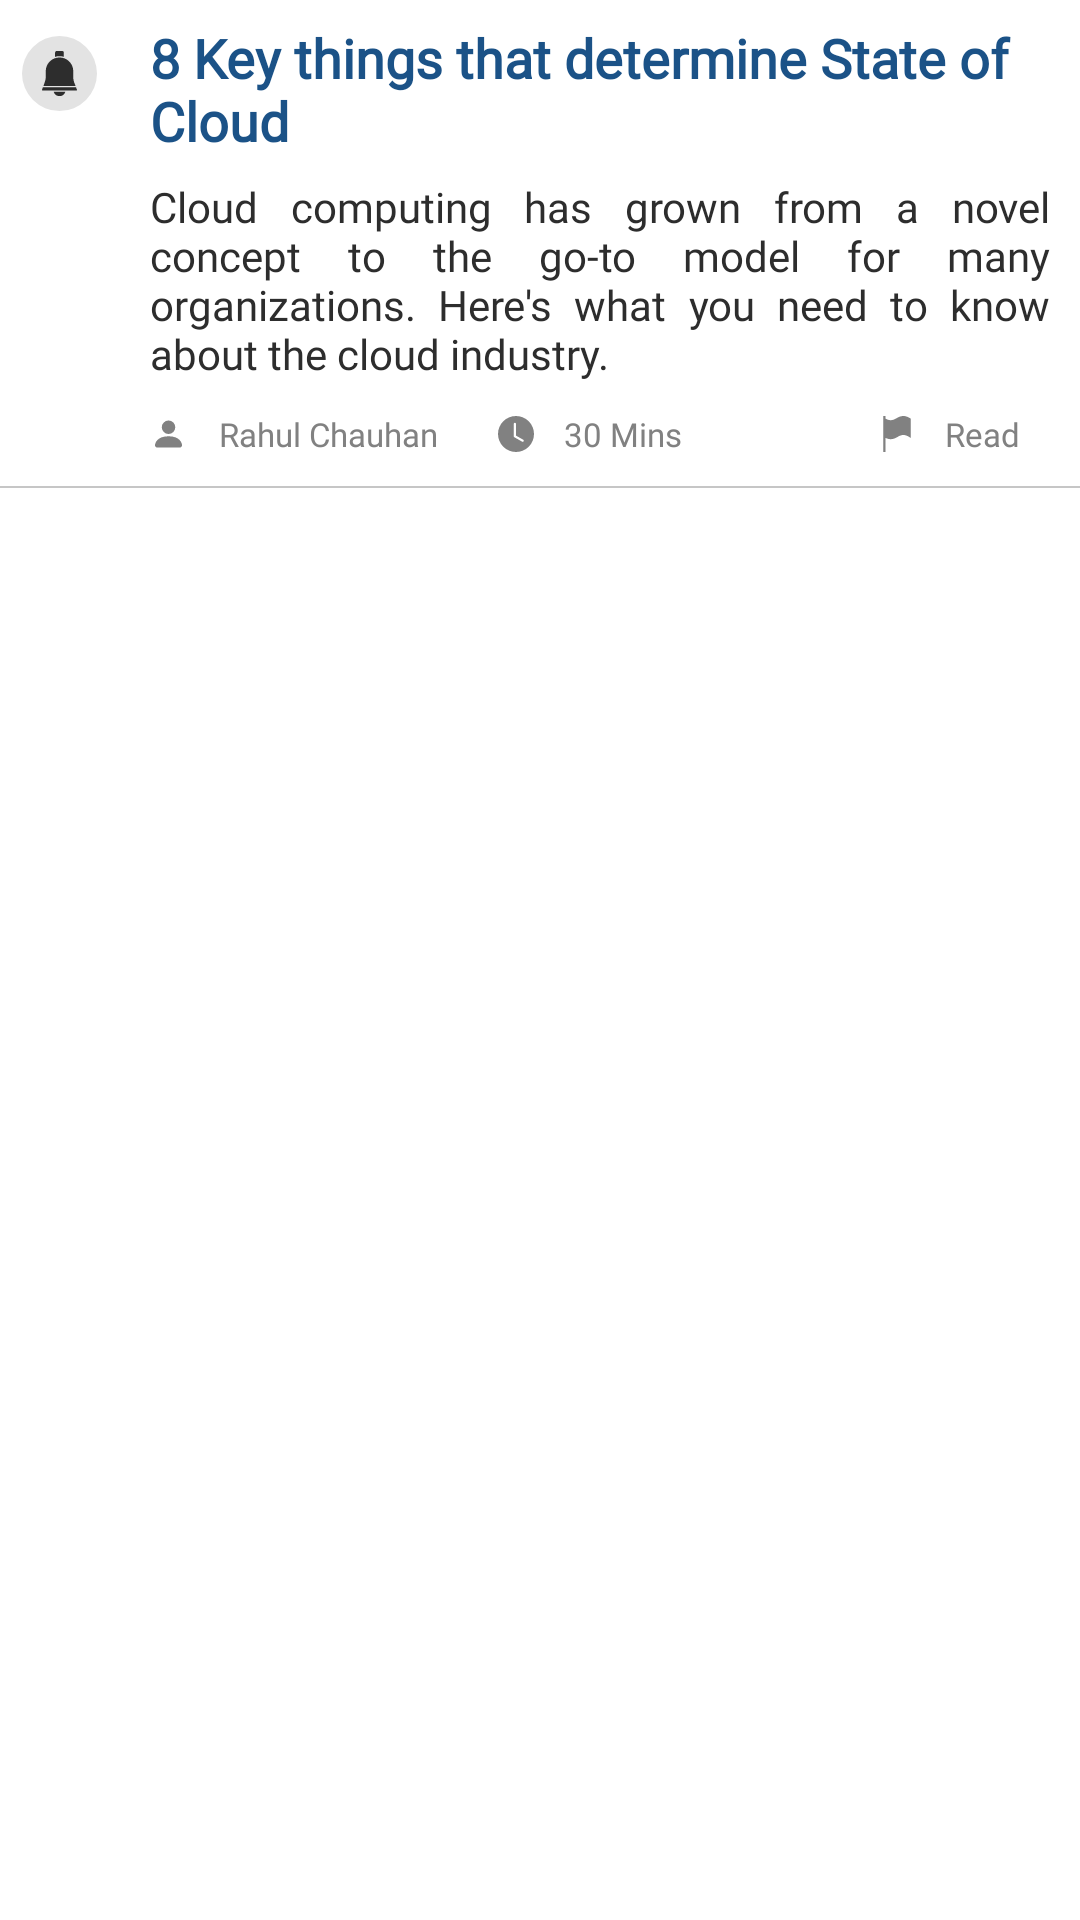

Icon click points for this 1080*1920 phone screenshot, format (x=x, y=y):
clock: (x=516, y=434)
notifcation: (x=59, y=73)
person: (x=168, y=434)
